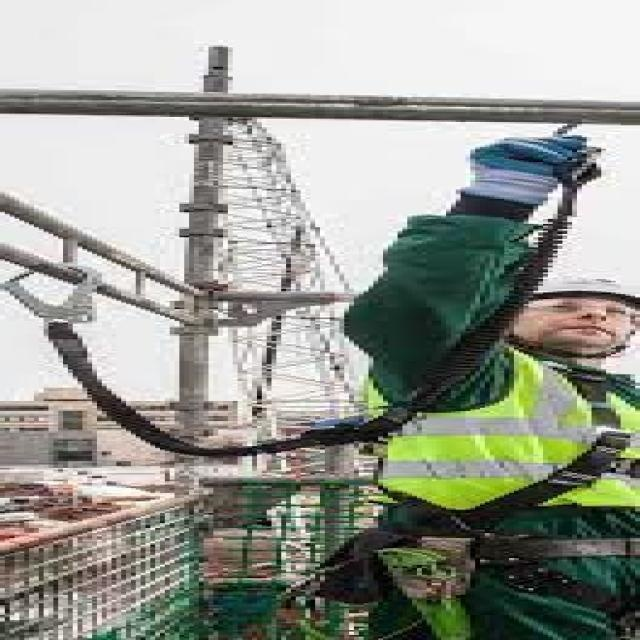Arnes_seguridad: (419, 391, 640, 582)
